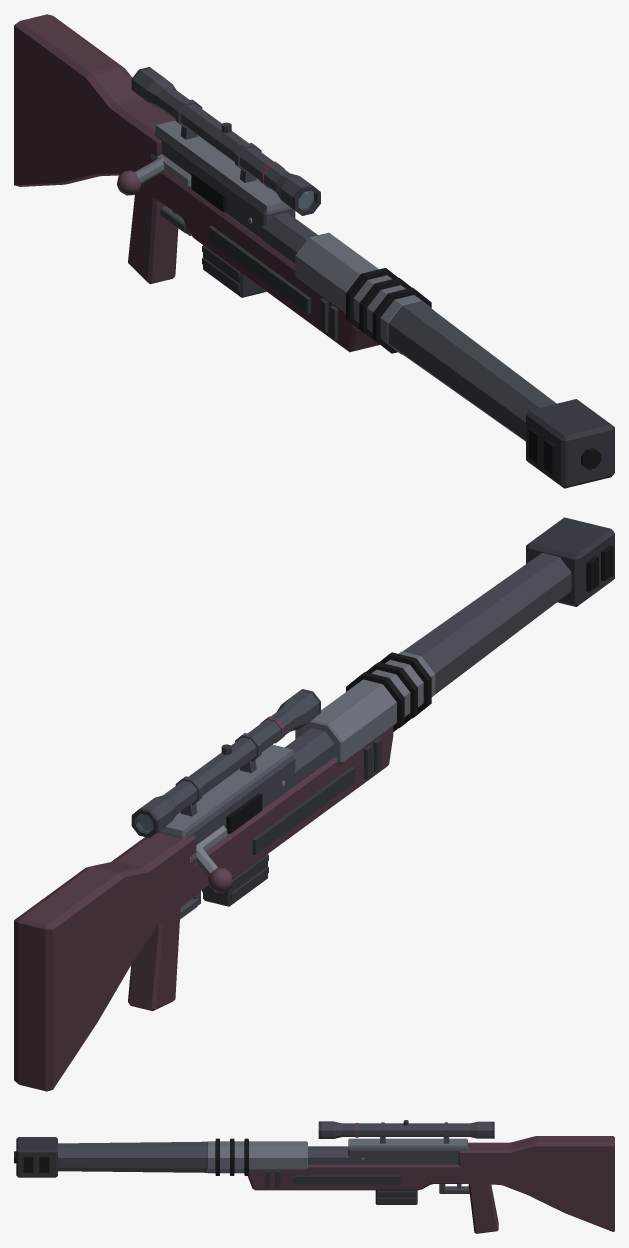
The model's file is w_sniper.glb.
The picture shows the model from 3 angles, top to bottom: view 1: azimuth 30°, elevation 25°; view 2: azimuth 150°, elevation 25°; view 3: azimuth 270°, elevation 25°; orthographic projection. The views are drawn at different scales.
Parts seen in each view (by area): view 1: stock_wzA__body__p523847, barrel_wzB__frame__p444851, fore_wzA__body__p523847, scope_wzN__frame__p444851, barrel_wzB__dark__p353840, barrel_wzB__deck__p676d78, barrel_wzN__black__p16171b, grip_wzA__body__p523847, deck_wzB__deck__p676d78, body_wzB__frame__p444851, fore_wzN__dark__p353840, mag_wzB__dark__p353840 (+3 smaller); view 2: stock_wzA__body__p523847, barrel_wzB__frame__p444851, fore_wzA__body__p523847, barrel_wzB__deck__p676d78, scope_wzN__frame__p444851, barrel_wzB__dark__p353840, grip_wzA__body__p523847, barrel_wzN__black__p16171b, deck_wzB__deck__p676d78, body_wzB__frame__p444851, fore_wzN__dark__p353840, mag_wzB__dark__p353840; view 3: stock_wzA__body__p523847, barrel_wzB__frame__p444851, fore_wzA__body__p523847, barrel_wzB__deck__p676d78, scope_wzN__frame__p444851, body_wzB__frame__p444851, barrel_wzB__dark__p353840, grip_wzA__body__p523847, deck_wzB__deck__p676d78, fore_wzN__dark__p353840, barrel_wzN__black__p16171b, mag_wzB__dark__p353840 (+2 smaller).
Boxes of the visible parts, box(x1,y1,x2,y2) form: stock_wzA__body__p523847: box(14, 14, 175, 200); barrel_wzB__frame__p444851: box(262, 212, 556, 441); fore_wzA__body__p523847: box(154, 170, 379, 352); scope_wzN__frame__p444851: box(133, 68, 315, 212); barrel_wzB__dark__p353840: box(526, 399, 614, 488); barrel_wzB__deck__p676d78: box(295, 232, 434, 354); barrel_wzN__black__p16171b: box(346, 268, 601, 474); grip_wzA__body__p523847: box(128, 189, 178, 284); deck_wzB__deck__p676d78: box(155, 120, 291, 214); body_wzB__frame__p444851: box(154, 131, 295, 238); fore_wzN__dark__p353840: box(208, 225, 311, 314); mag_wzB__dark__p353840: box(202, 245, 266, 297); stock_wzA__body__p523847: box(14, 833, 196, 1091); barrel_wzB__frame__p444851: box(285, 552, 571, 785); fore_wzA__body__p523847: box(193, 726, 393, 895); barrel_wzB__deck__p676d78: box(295, 651, 435, 764); scope_wzN__frame__p444851: box(137, 690, 318, 834); barrel_wzB__dark__p353840: box(526, 517, 614, 606); grip_wzA__body__p523847: box(128, 908, 180, 1011); barrel_wzN__black__p16171b: box(346, 545, 613, 731); deck_wzB__deck__p676d78: box(157, 744, 293, 838); body_wzB__frame__p444851: box(183, 755, 295, 844); fore_wzN__dark__p353840: box(252, 766, 355, 854); mag_wzB__dark__p353840: box(202, 854, 268, 906); stock_wzA__body__p523847: box(458, 1136, 614, 1231); barrel_wzB__frame__p444851: box(58, 1141, 350, 1172); fore_wzA__body__p523847: box(247, 1164, 462, 1190); barrel_wzB__deck__p676d78: box(207, 1141, 307, 1173); scope_wzN__frame__p444851: box(321, 1121, 492, 1143); body_wzB__frame__p444851: box(348, 1148, 467, 1164); barrel_wzB__dark__p353840: box(16, 1137, 57, 1177); grip_wzA__body__p523847: box(468, 1184, 498, 1233); deck_wzB__deck__p676d78: box(348, 1138, 467, 1149); fore_wzN__dark__p353840: box(293, 1175, 400, 1184); barrel_wzN__black__p16171b: box(14, 1138, 248, 1175); mag_wzB__dark__p353840: box(375, 1190, 417, 1204).
Size of the model in its own units: 0.1868 by 0.4202 by 2.08.
